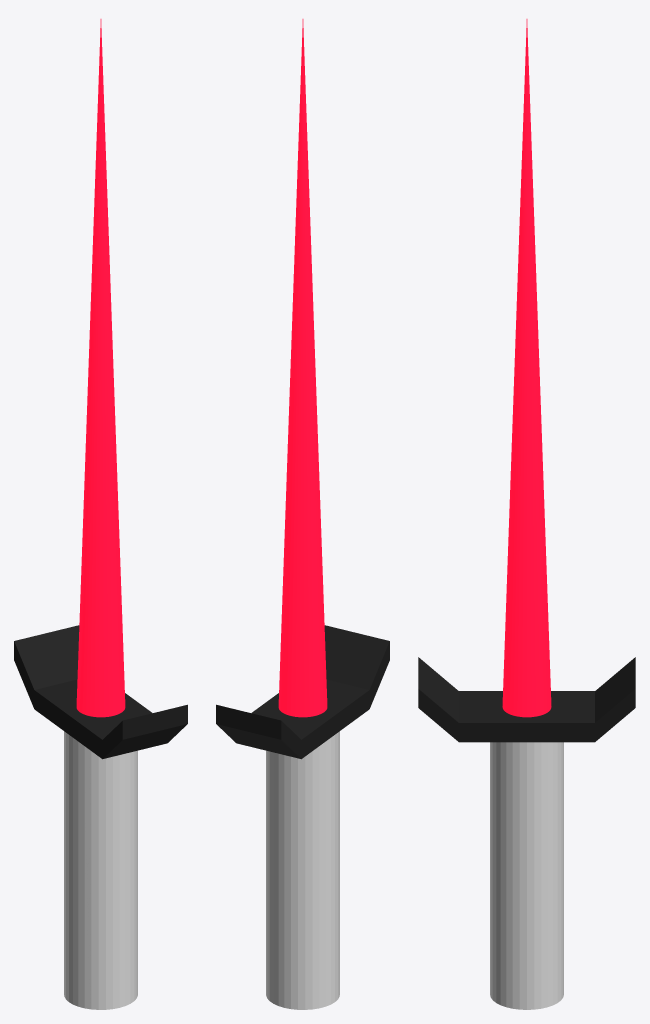
Rendered from (Japan)CyberBladeEnemyWIP.fbx.
3 renders of one model, left to right at view 1: azimuth 30°, elevation 25°; view 2: azimuth 150°, elevation 25°; view 3: azimuth 270°, elevation 25°, orthographic.
Visible parts, largest first — view 1: CyberBladeRED; view 2: CyberBladeRED; view 3: CyberBladeRED.
Part boxes in pixels (x1,y1,x2,y2): CyberBladeRED: (14,19,187,1009); CyberBladeRED: (216,19,389,1009); CyberBladeRED: (418,19,635,1009).
Bounding box in the file's own units: 8.02 × 115 × 23.17.
